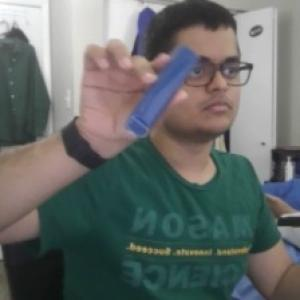Diamond-E-Ciggirate: (122, 46, 200, 140)
